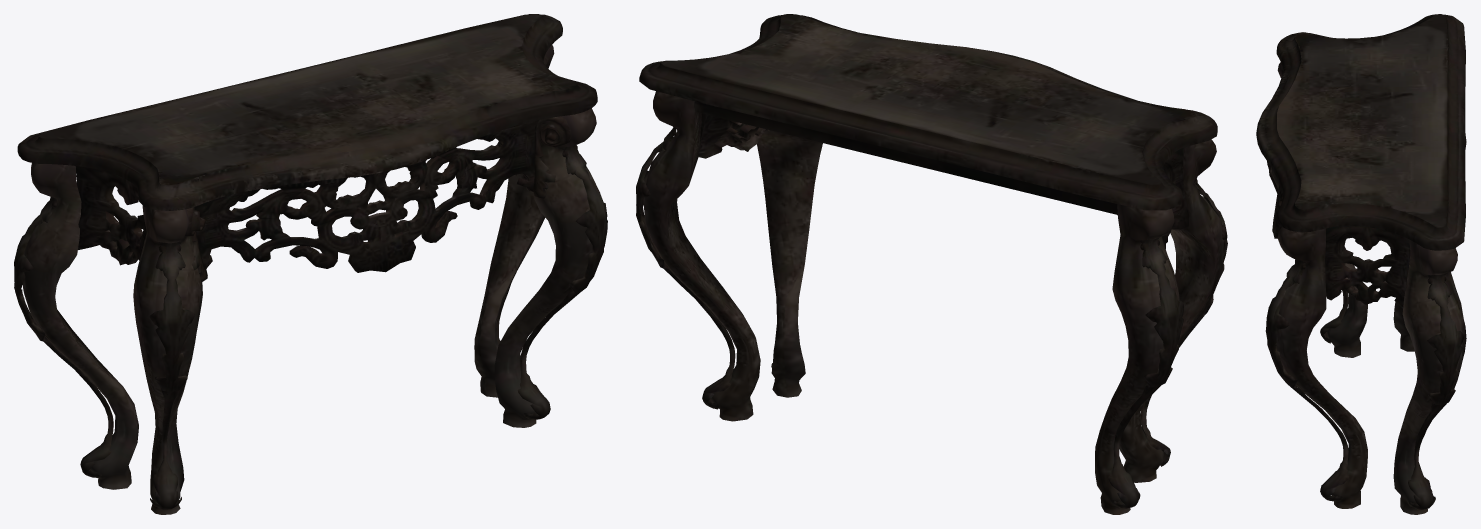
Rendered from ClassicConsole_01.glb.
3 views of the same model, side by side, from view 1: azimuth 30°, elevation 25°; view 2: azimuth 150°, elevation 25°; view 3: azimuth 270°, elevation 25° (orthographic). The views are drawn at different scales.
Visible parts, largest first — view 1: ClassicConsole_01; view 2: ClassicConsole_01; view 3: ClassicConsole_01.
Boxes of the visible parts, x1,y1,x2,y2 form: ClassicConsole_01: [14, 14, 607, 514]; ClassicConsole_01: [636, 14, 1227, 514]; ClassicConsole_01: [1256, 14, 1466, 514].
Bounding box in the file's own units: 1.54 × 0.9491 × 0.5892.
1 material, 1 textured.
